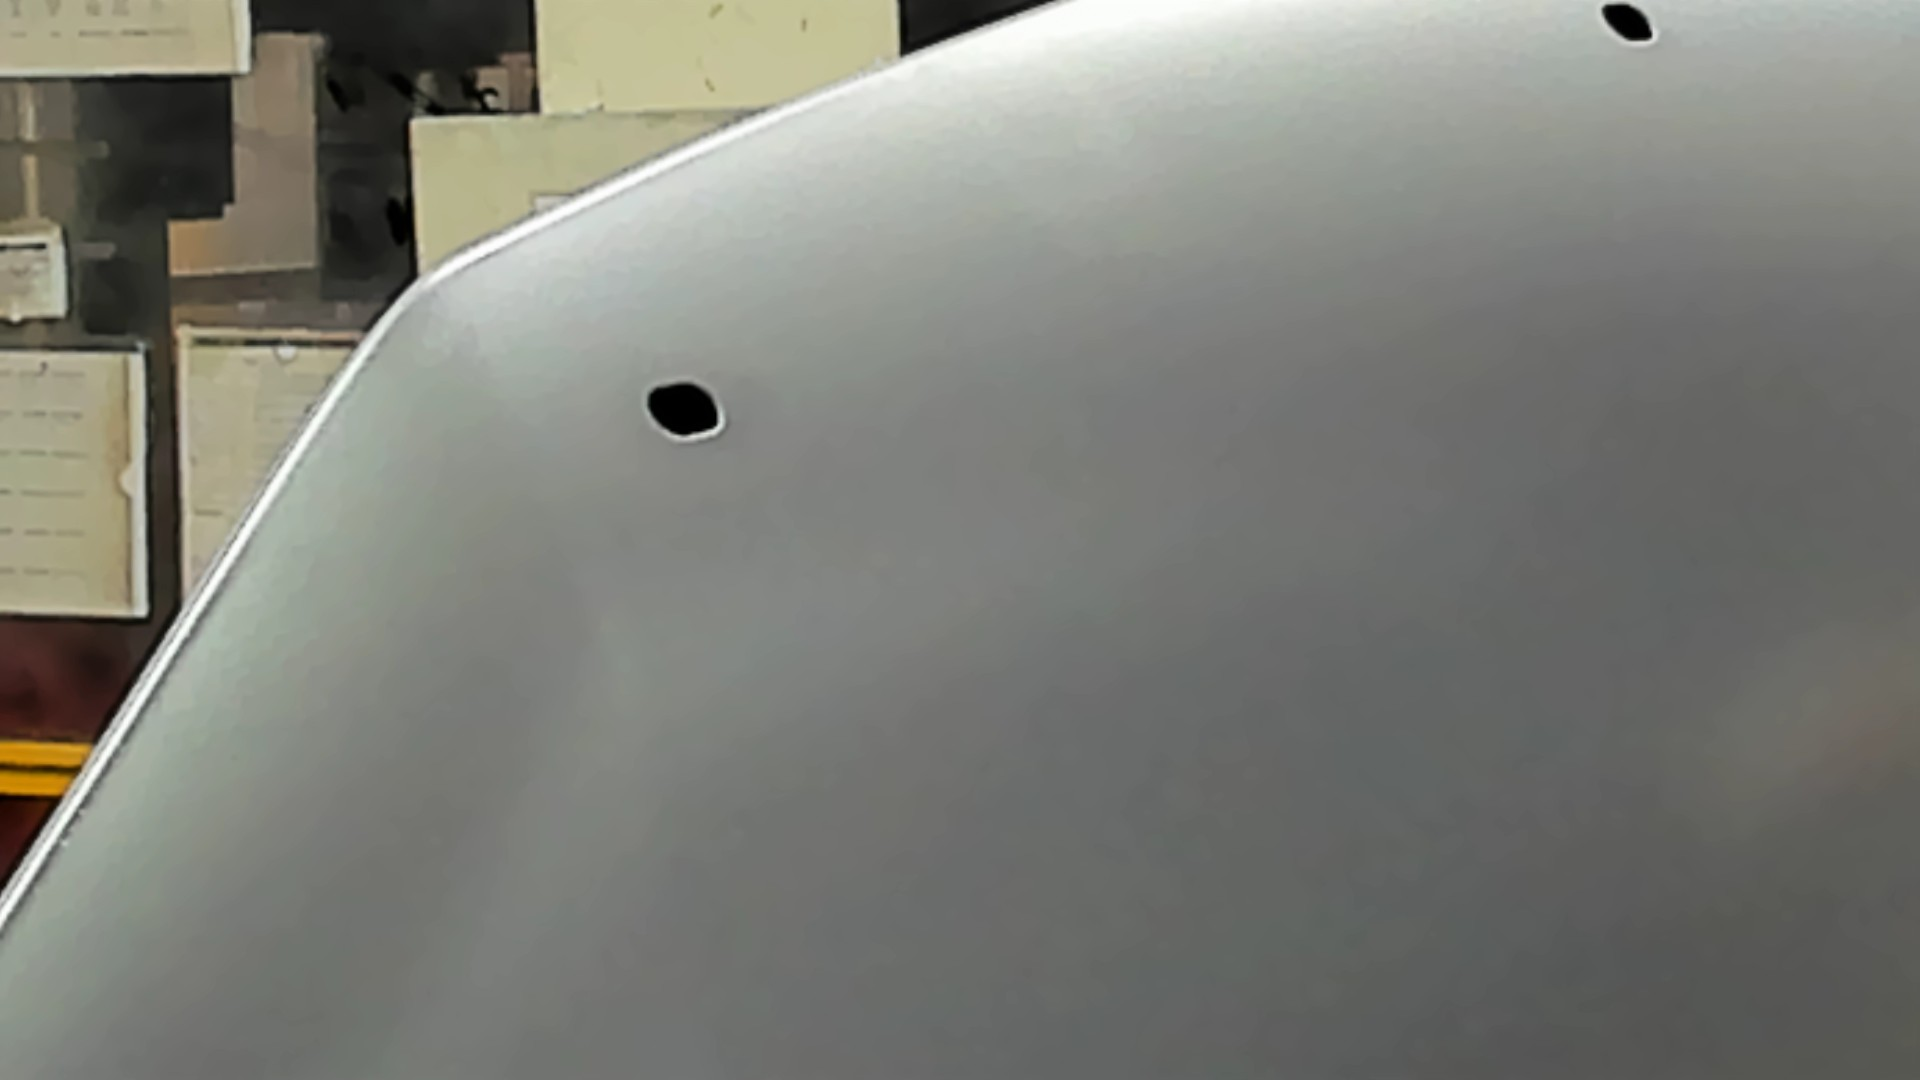amorfo: (645, 378, 732, 444), (1592, 1, 1660, 49)
